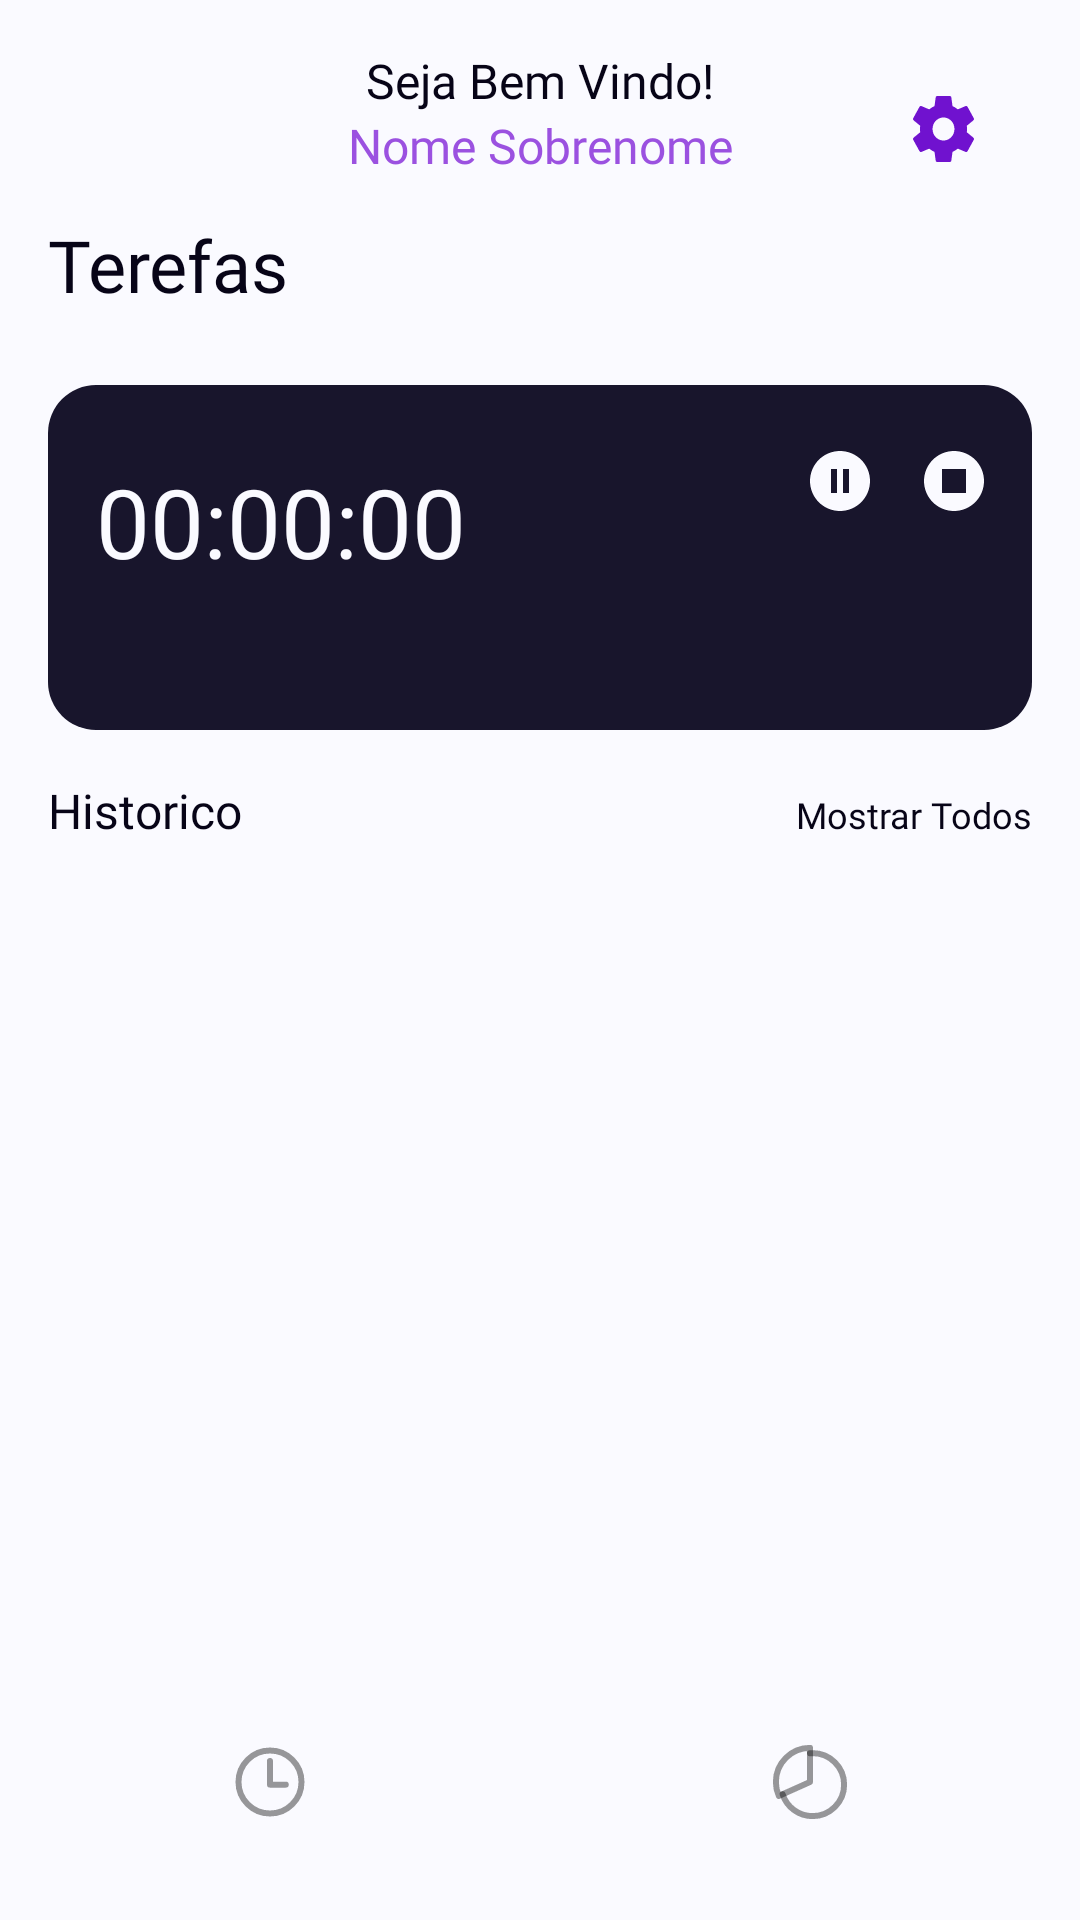

Icons on this 1080px x 1920px Android screen, each with its box as rect(x1, y1, x2, y2):
config: rect(913, 96, 974, 162)
grafico: rect(773, 1745, 847, 1819)
pause: rect(810, 451, 870, 511)
stop: rect(924, 451, 984, 511)
timer: rect(235, 1747, 305, 1817)
